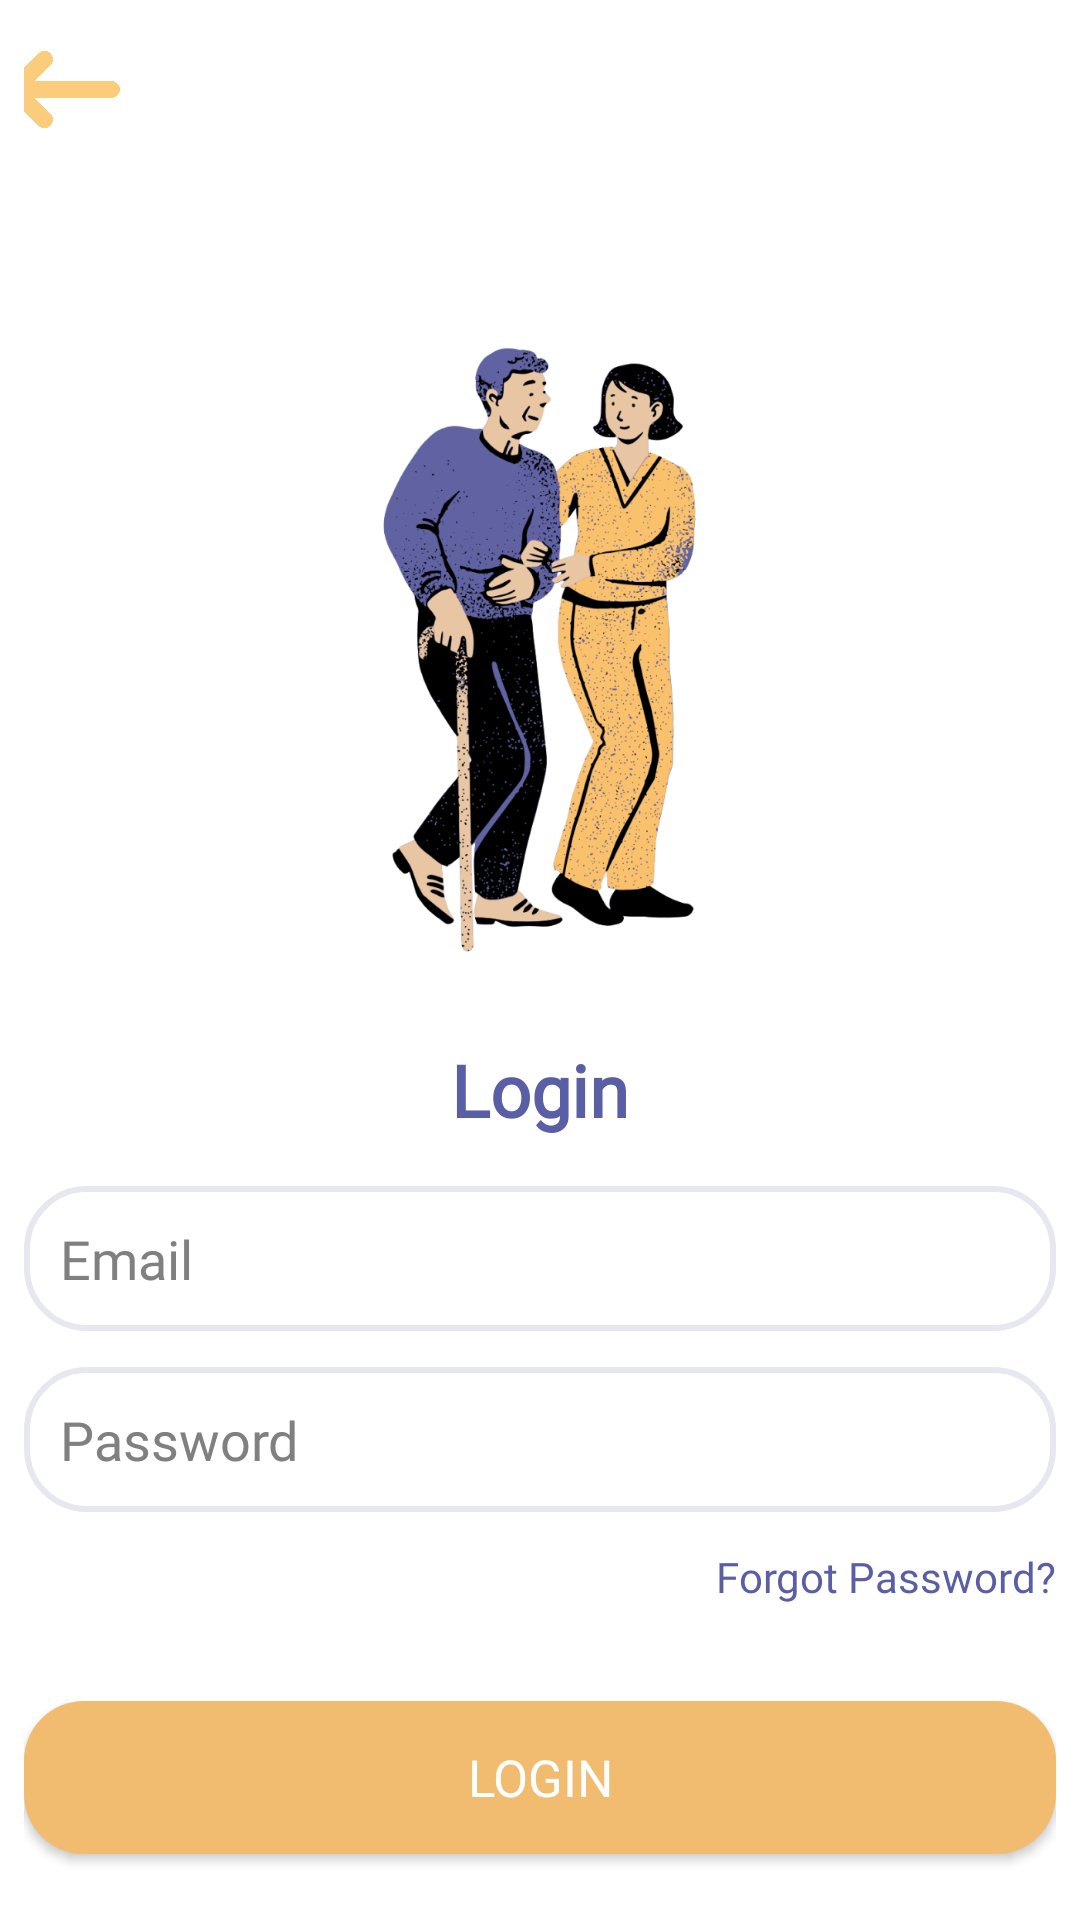

Icon click points for this 1080 × 1920 phone screenshot, format (x=x, y=y):
Back Arrow: (x=72, y=89)
